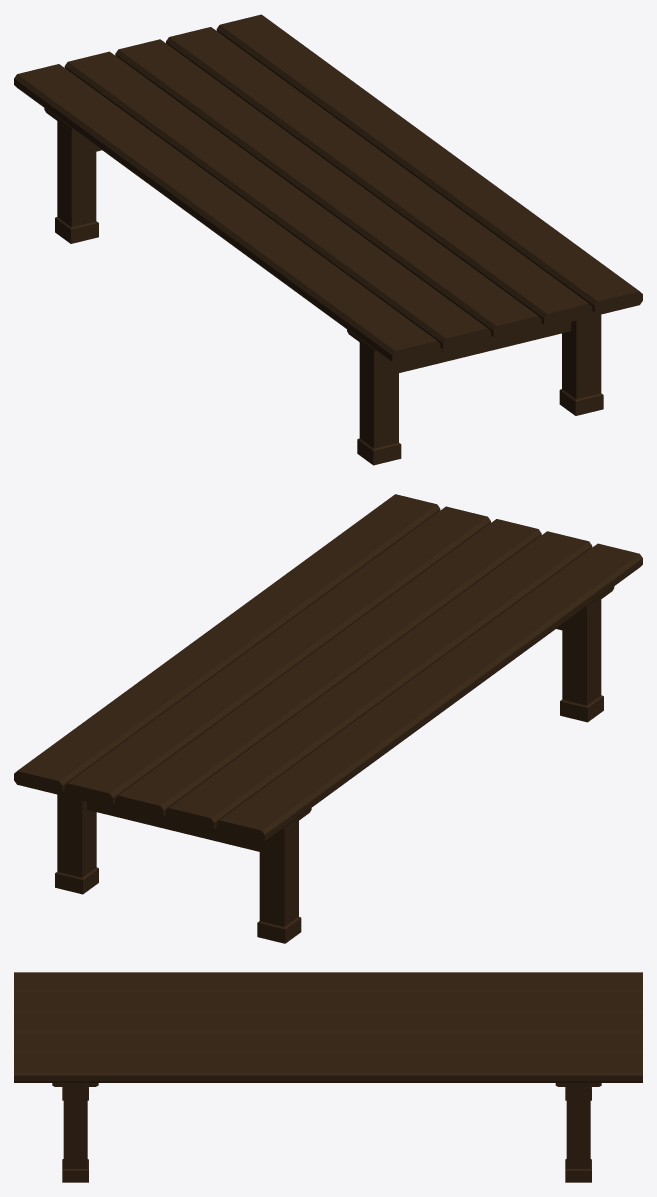
File: Table_001.fbx
3 renders of one model, top to bottom at view 1: azimuth 30°, elevation 25°; view 2: azimuth 150°, elevation 25°; view 3: azimuth 270°, elevation 25°, orthographic. The views are drawn at different scales.
Visible parts, largest first — view 1: table_001; view 2: table_001; view 3: table_001.
Part boxes in pixels (left/top/right/bottom): table_001: left=14, top=14, right=642, bottom=465; table_001: left=14, top=494, right=642, bottom=943; table_001: left=14, top=972, right=642, bottom=1182.
Size of the model in its own units: 180 by 94.43 by 471.
